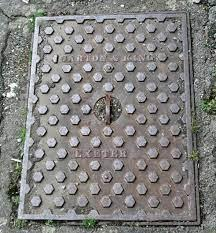closed manhole-not overflowing-: (32, 11, 199, 224)
